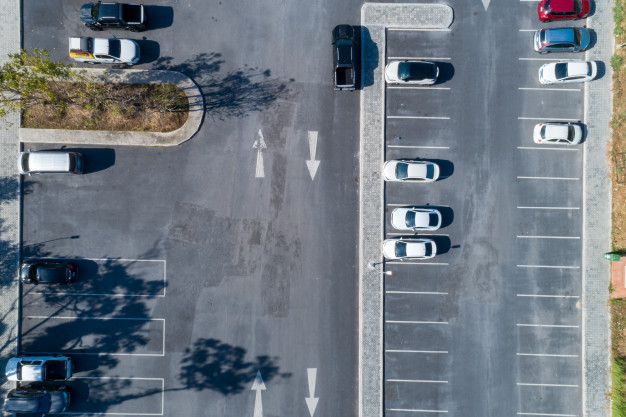car: (67, 34, 144, 68), (3, 355, 74, 387), (77, 1, 148, 32), (329, 23, 359, 94), (377, 156, 445, 186), (17, 147, 80, 178), (537, 57, 600, 88), (1, 389, 75, 415), (385, 56, 443, 89), (17, 257, 79, 287), (529, 117, 587, 147), (386, 206, 448, 233), (533, 27, 595, 54), (379, 236, 440, 262), (536, 1, 590, 23)
